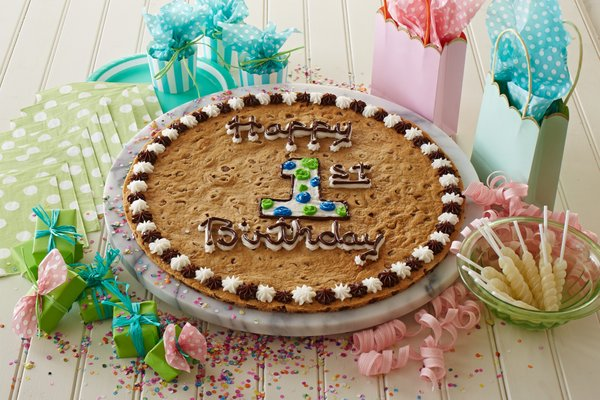sushi: (453, 211, 600, 330)
